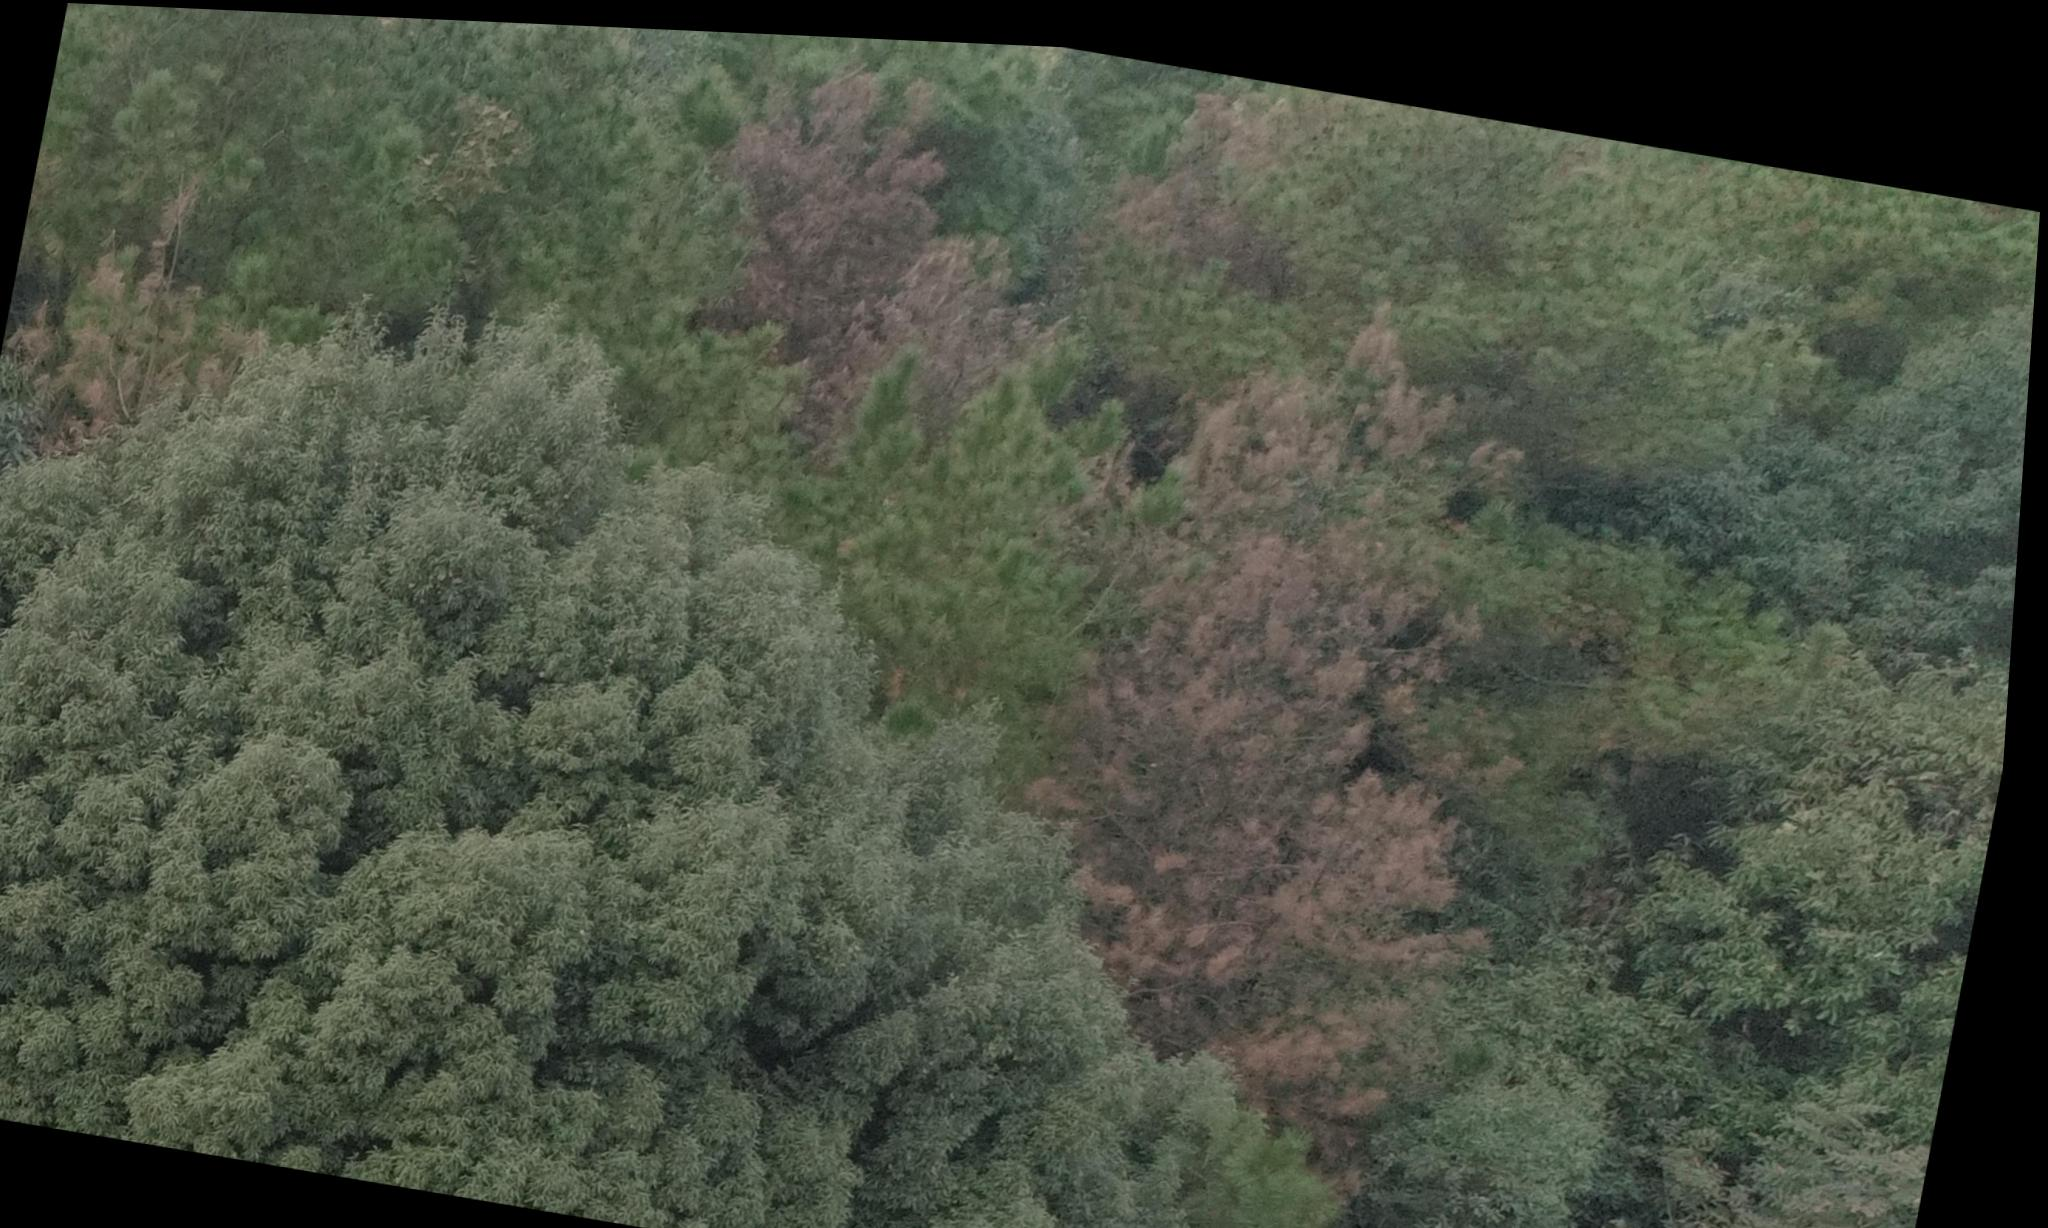heavy: (1001, 259, 1605, 1190), (661, 25, 1115, 519), (6, 151, 304, 506)
